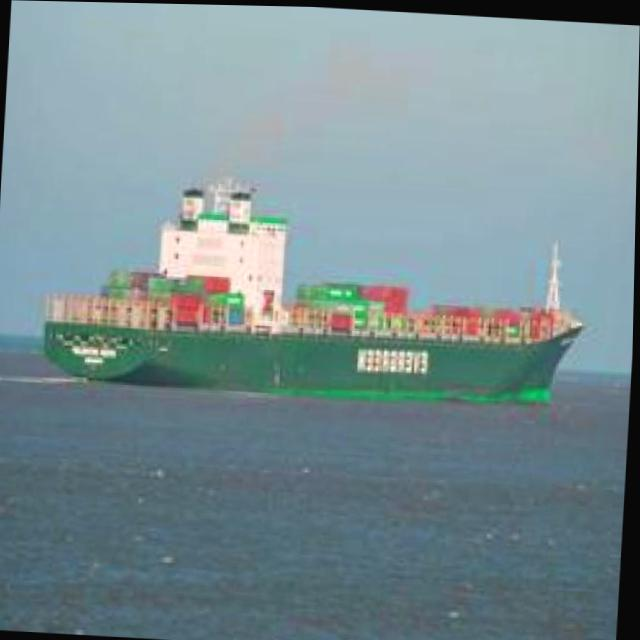ship2: (41, 182, 585, 404)
